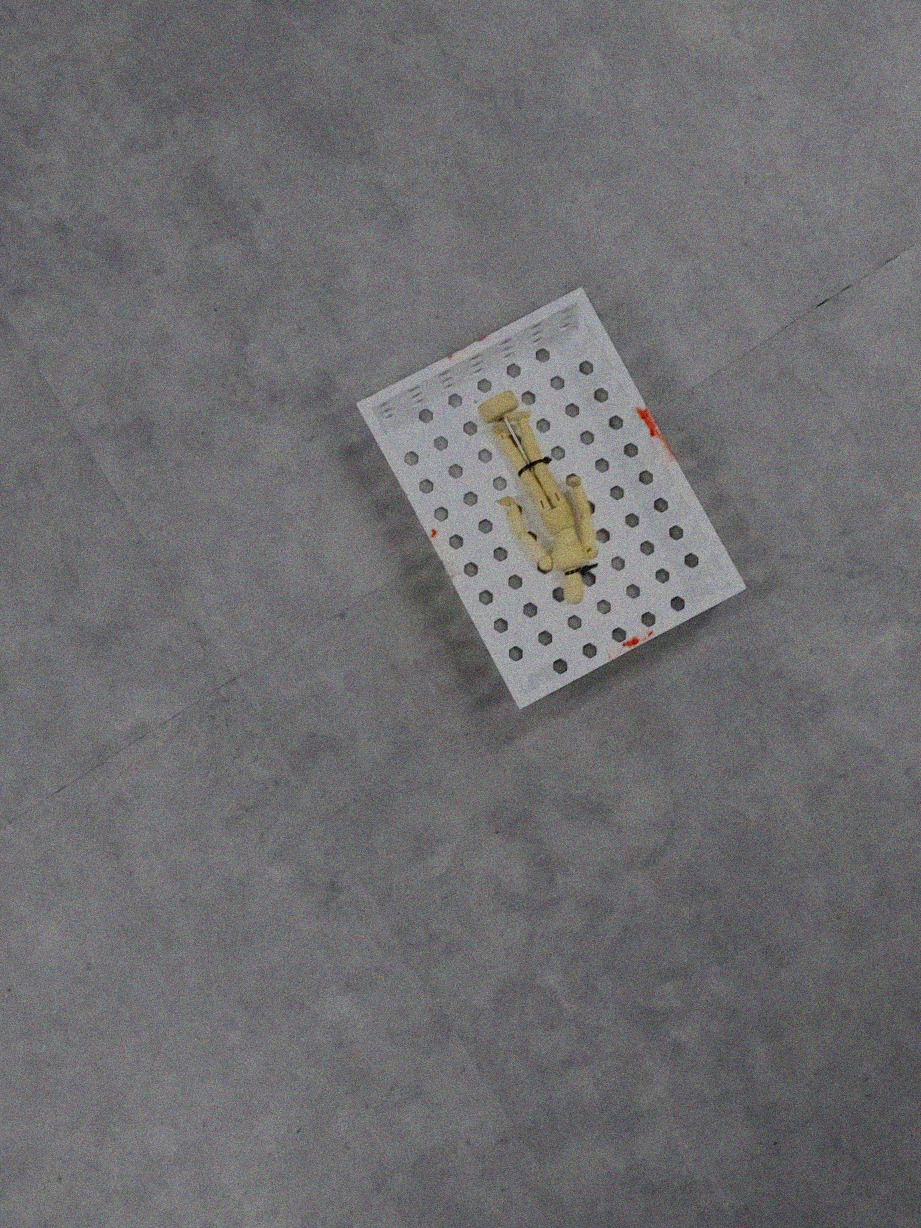basket: (344, 278, 755, 714)
mannequin: (473, 383, 601, 611)
